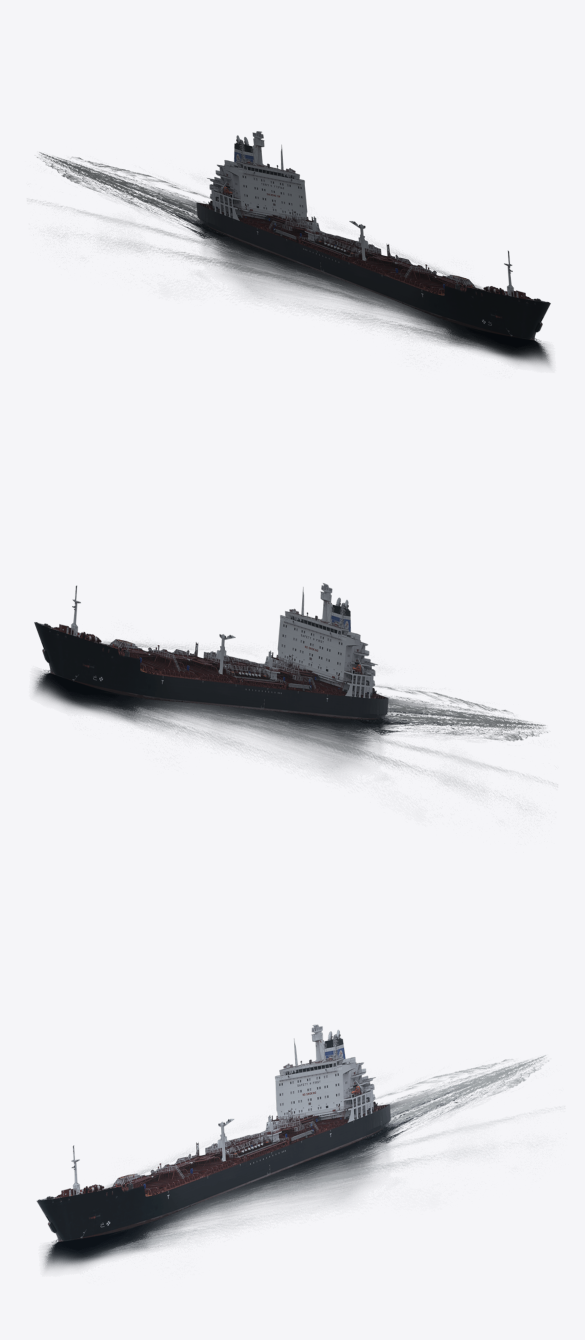
The model's file is WhatWeDo.glb.
The picture shows the model from 3 angles, top to bottom: view 1: azimuth 30°, elevation 25°; view 2: azimuth 210°, elevation 25°; view 3: azimuth 270°, elevation 25°; orthographic projection.
Parts seen in each view (by area): view 1: Boat; view 2: Boat; view 3: Boat.
Boxes of the visible parts, x1,y1,x2,y2 form: Boat: (31, 131, 550, 365); Boat: (34, 583, 553, 809); Boat: (36, 1024, 560, 1269).
Bounding box in the file's own units: 64.37 × 59.4 × 108.
Materials: 1 (1 with a texture image).
